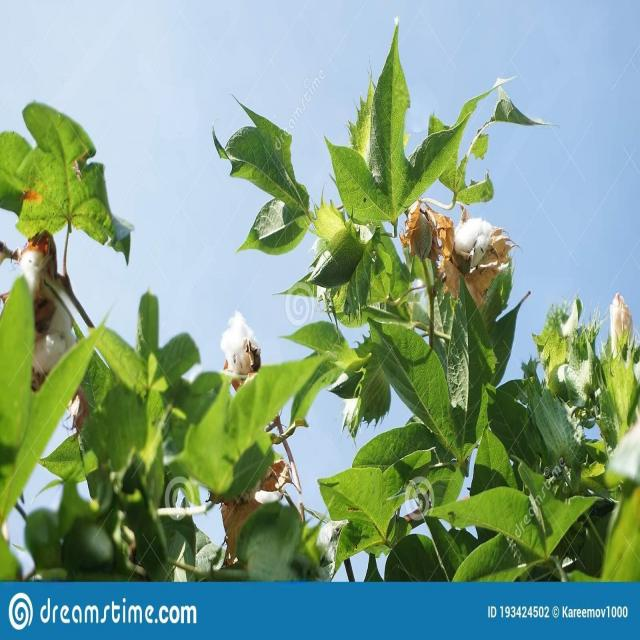Early_blight: (437, 204, 520, 302), (220, 312, 268, 388)
